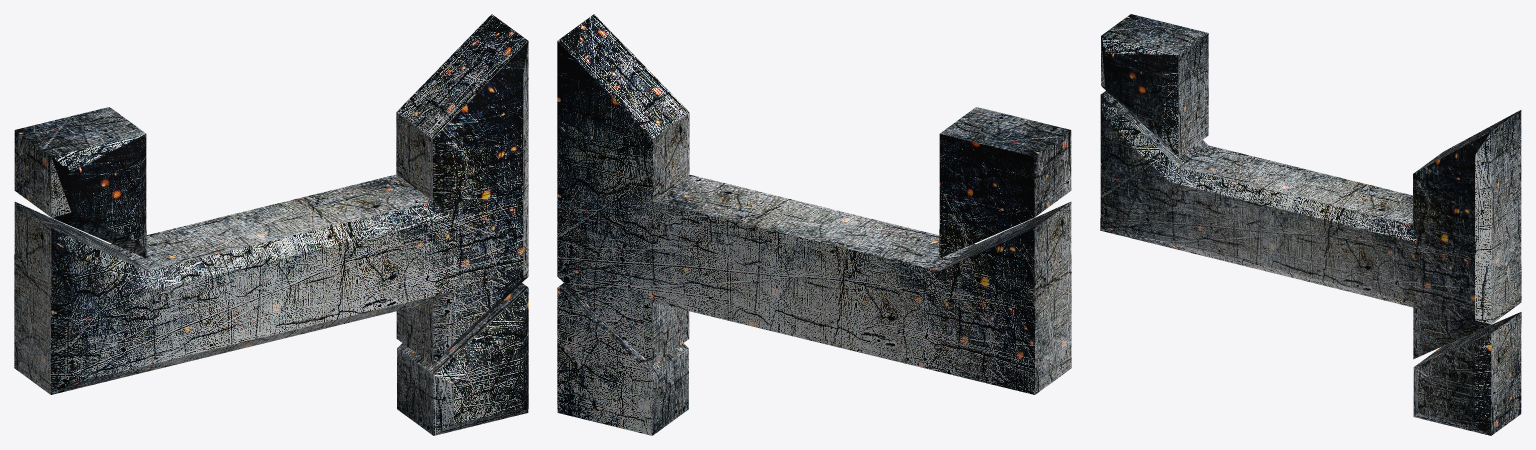
3 views of the same model, side by side, from view 1: azimuth 30°, elevation 25°; view 2: azimuth 150°, elevation 25°; view 3: azimuth 330°, elevation 25° (orthographic). The views are drawn at different scales.
Visible parts, largest first — view 1: 4; view 2: 4; view 3: 4.
Boxes of the visible parts, x1,y1,x2,y2 form: 4: (14,14,528,435); 4: (557,14,1071,435); 4: (1100,14,1521,435).
Size of the model in its own units: 75.13 by 55.95 by 12.
1 material, 1 textured.
